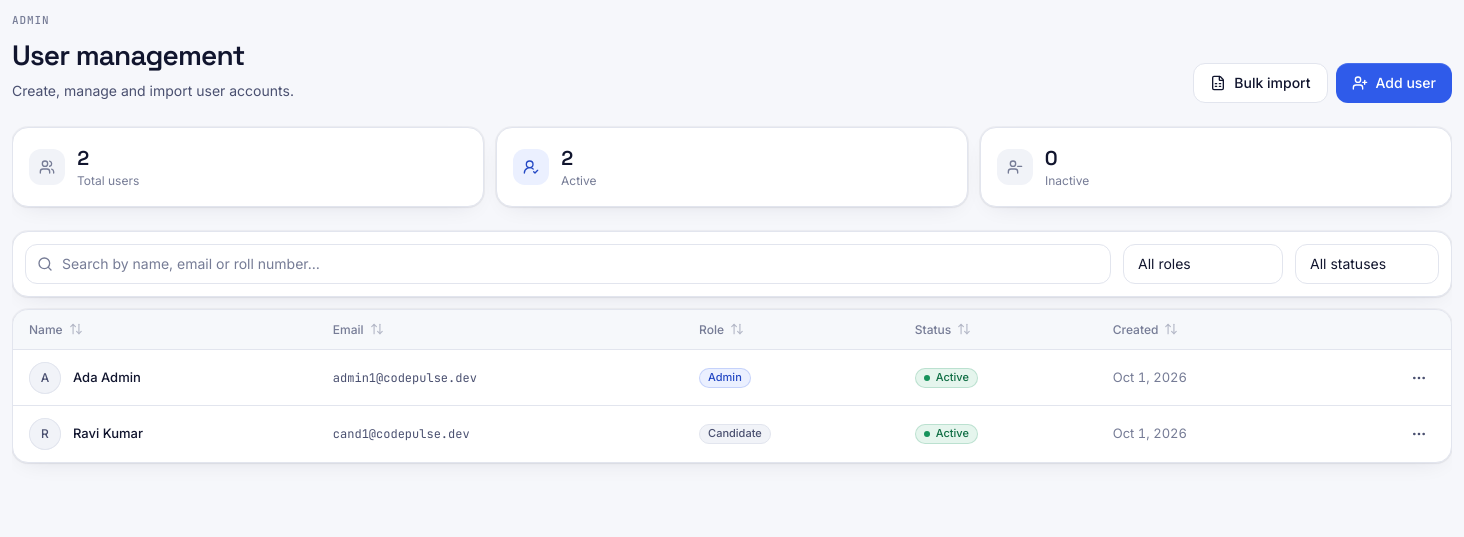
Test: UserManagementPage delete › offers no delete on the signed-in admin’s own row
This screenshot has width=1464, height=537.
Click the button named "Actions for Ada Admin".
click(1419, 378)  # box [1403,362,1435,394]
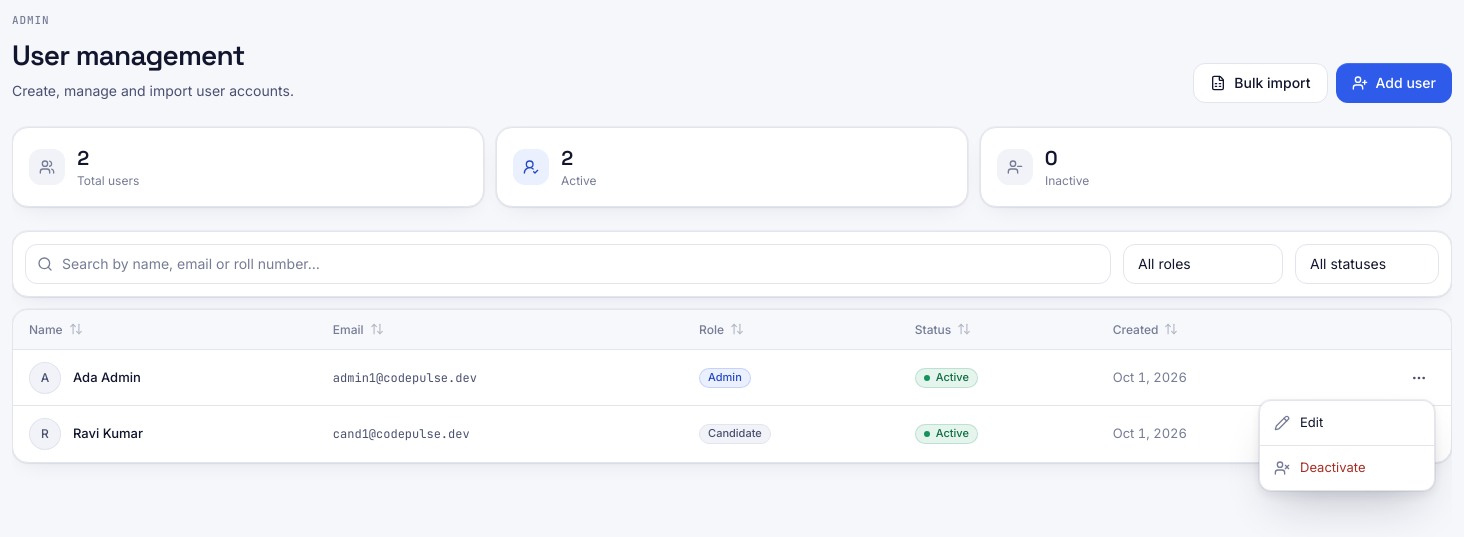
Now the menu item "Edit" is shown, box [1274,414,1323,431]
